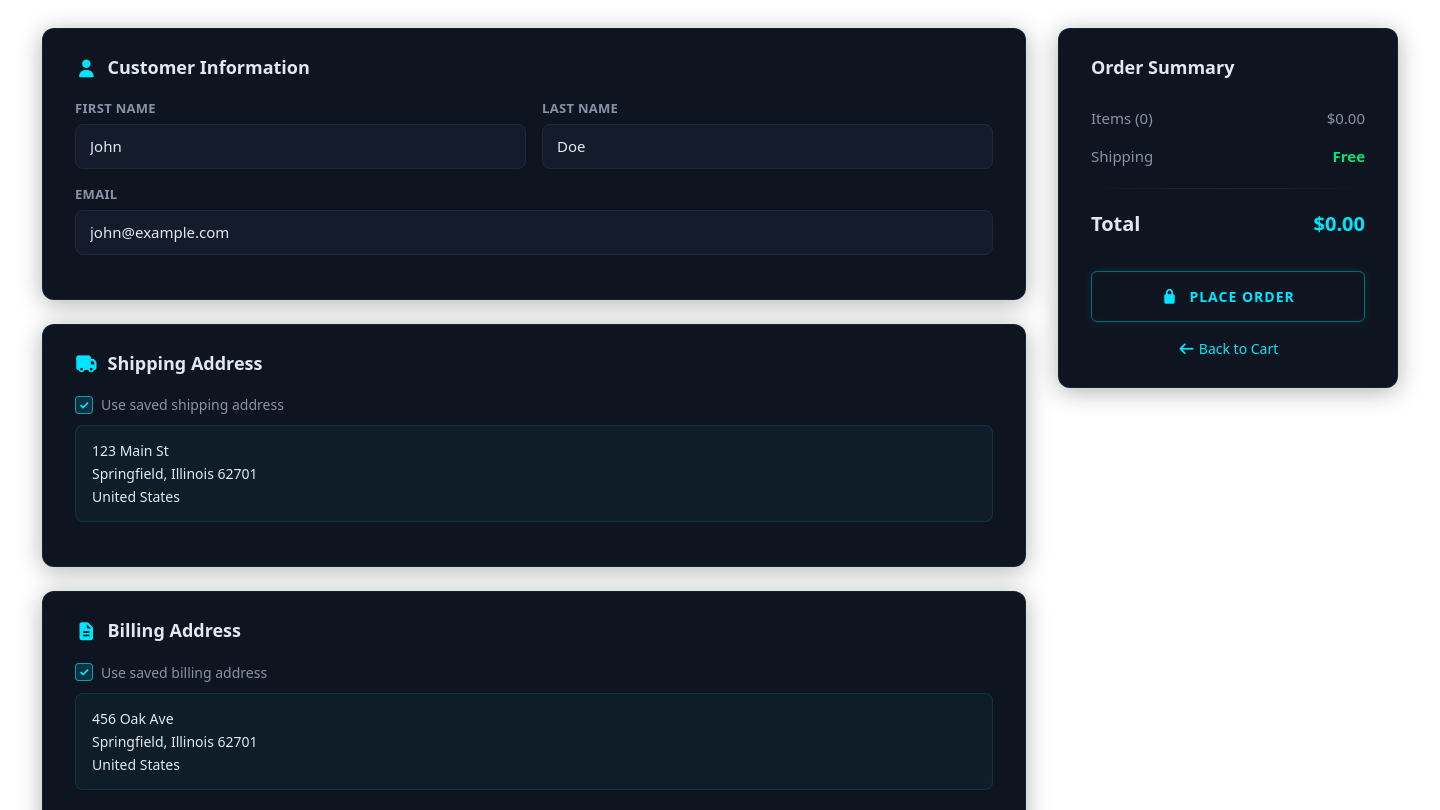
Test: CheckoutComponent - useSaved* toggles › should re-show shipping form fields when useSavedShipping is toggled off
Toggle off to re-show form
Click the checkbox labelled "Use saved shipping address": (84, 405) [75, 396, 93, 414]
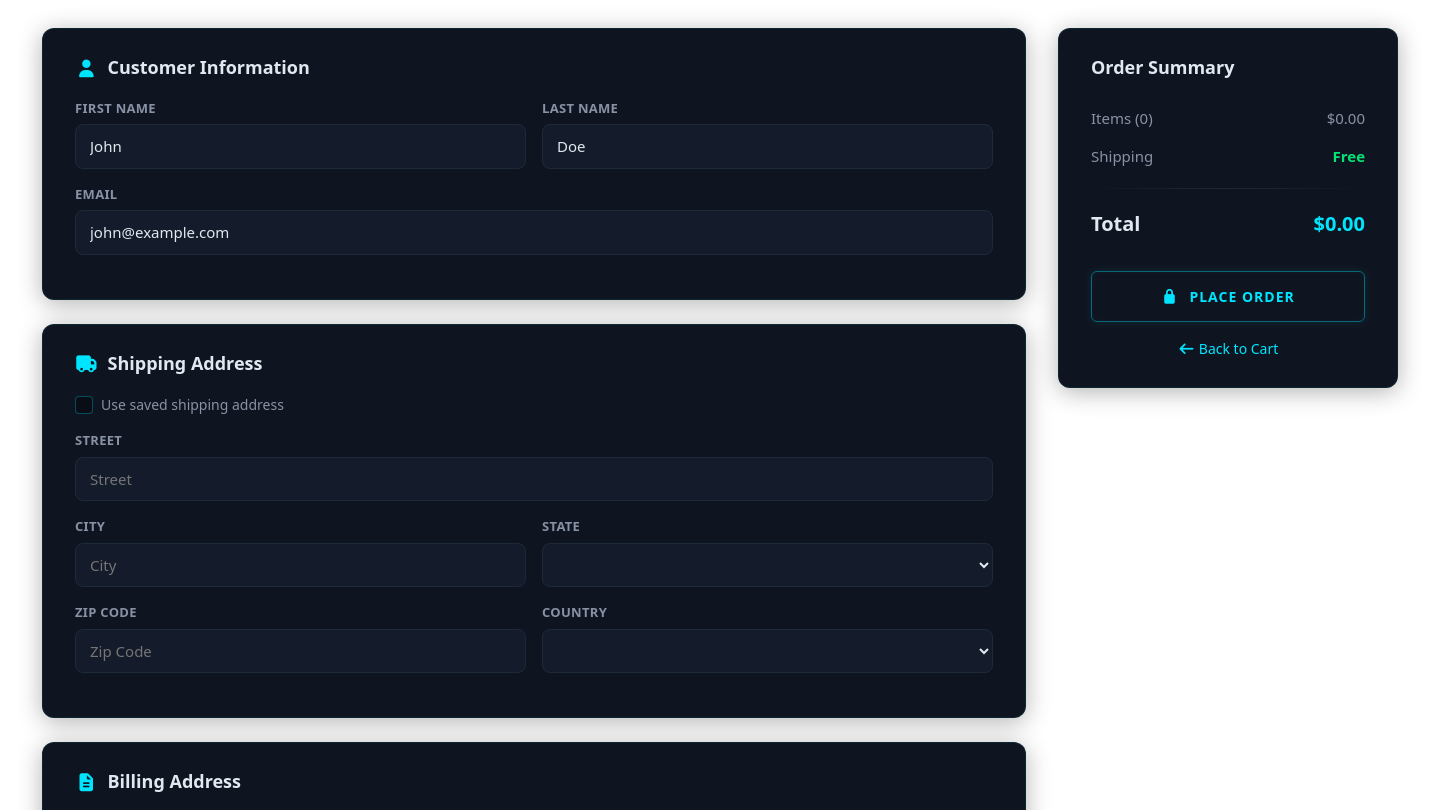
Now the field with id "shippingStreet" is shown, box [75, 457, 993, 501]
